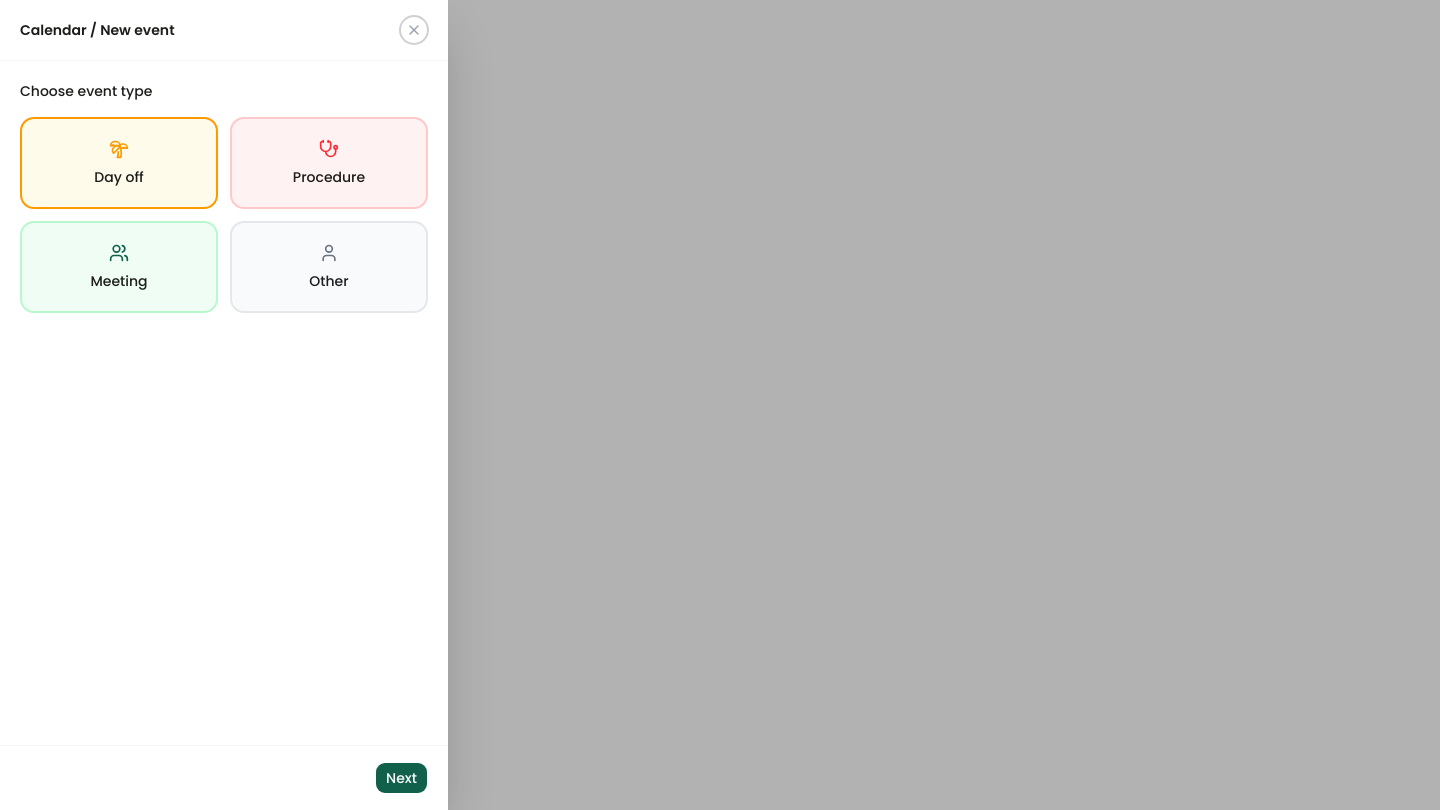
Test: NewEventDrawer › blocks submit and surfaces a validation error when the title is empty
Click the button "Next".
click(402, 778)  # box [375,762,428,794]
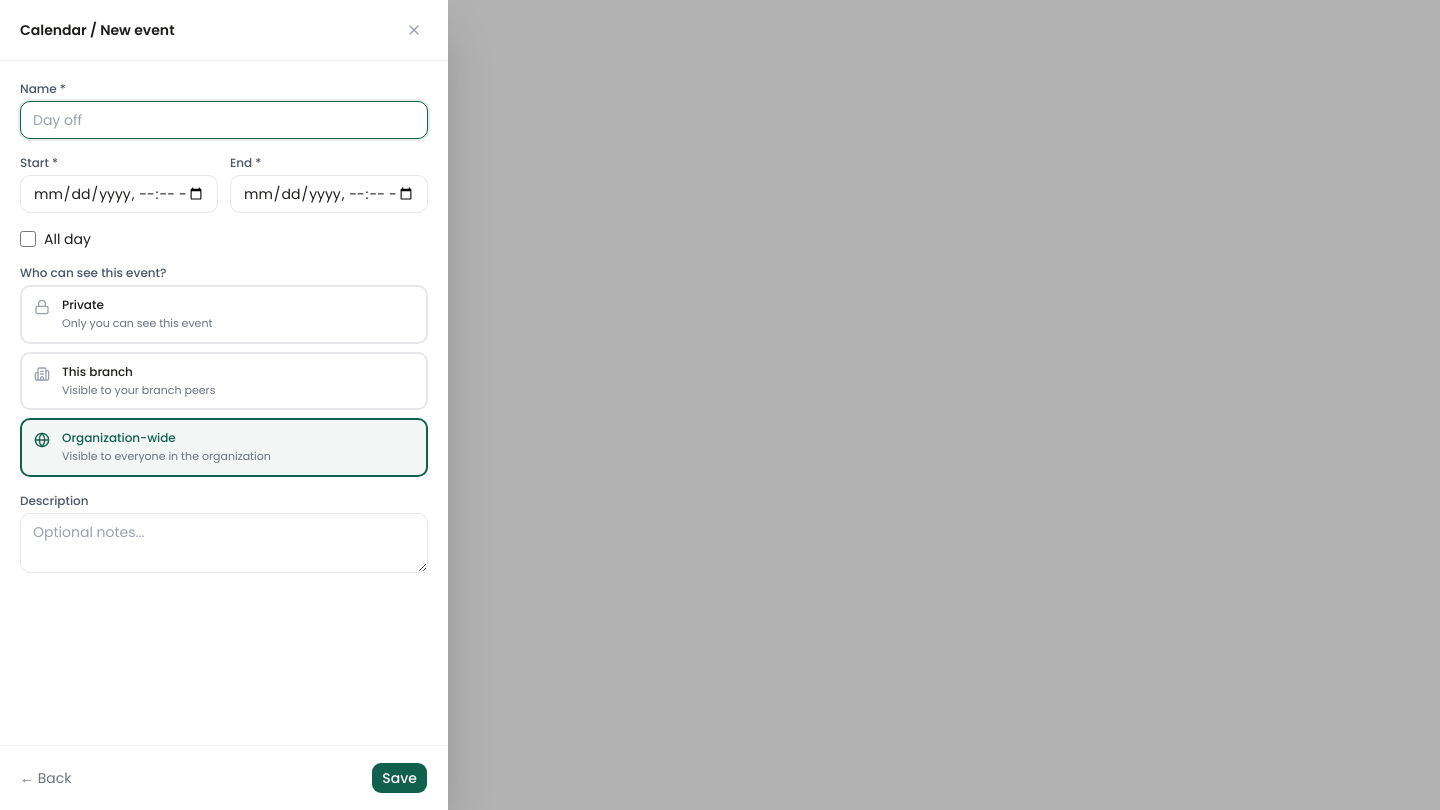
Type "2026-07-01T08:00" into the field below "Start".
click(119, 194); type("2026-07-01T08:00")  # box [20,175,218,213]
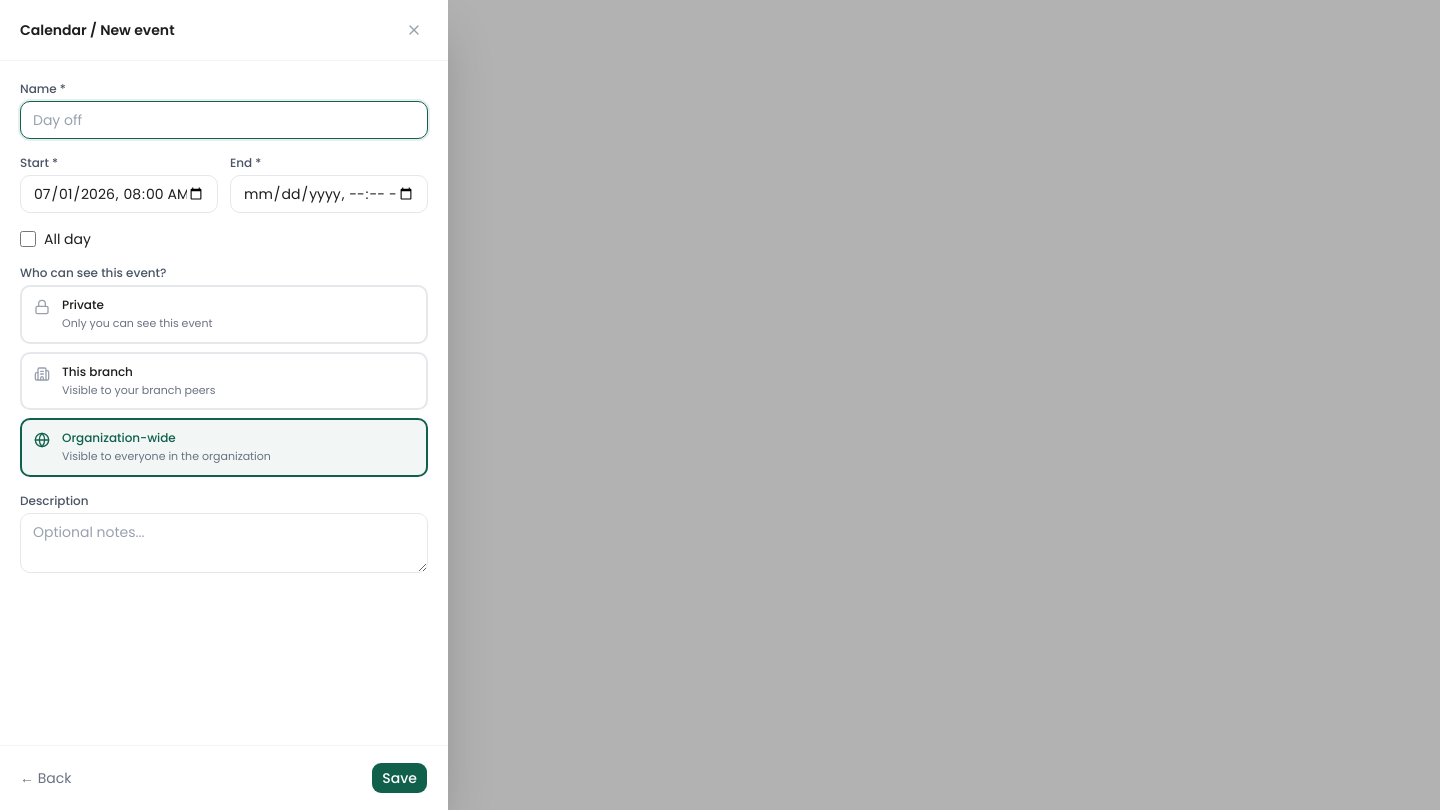
Type "2026-07-01T09:00" into the 3rd field.
click(329, 194); type("2026-07-01T09:00")  # box [230,175,428,213]
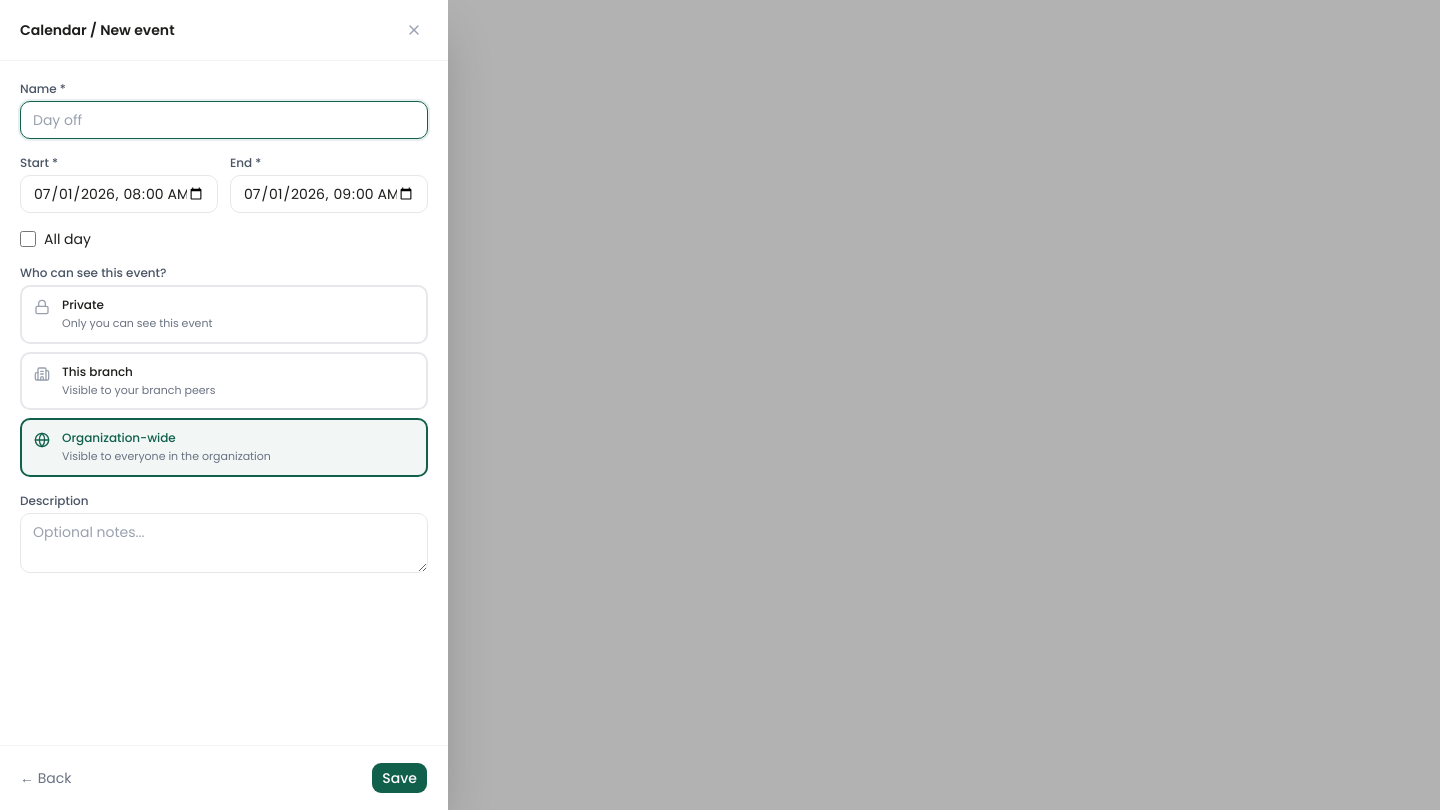
Click the button "Save".
click(400, 778)  # box [371,762,428,794]
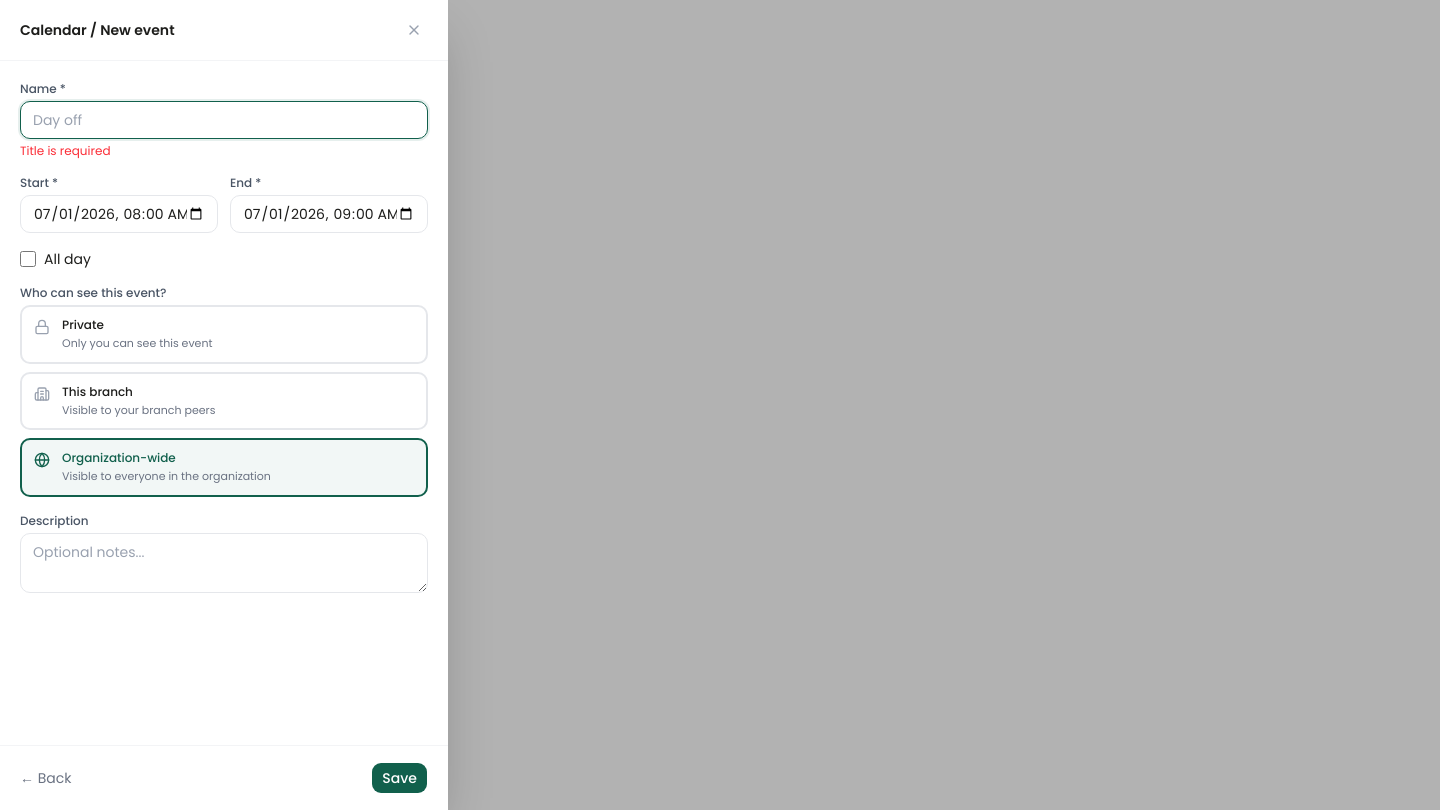
Now the text "Title is required" is shown, box [20,142,110,159]
